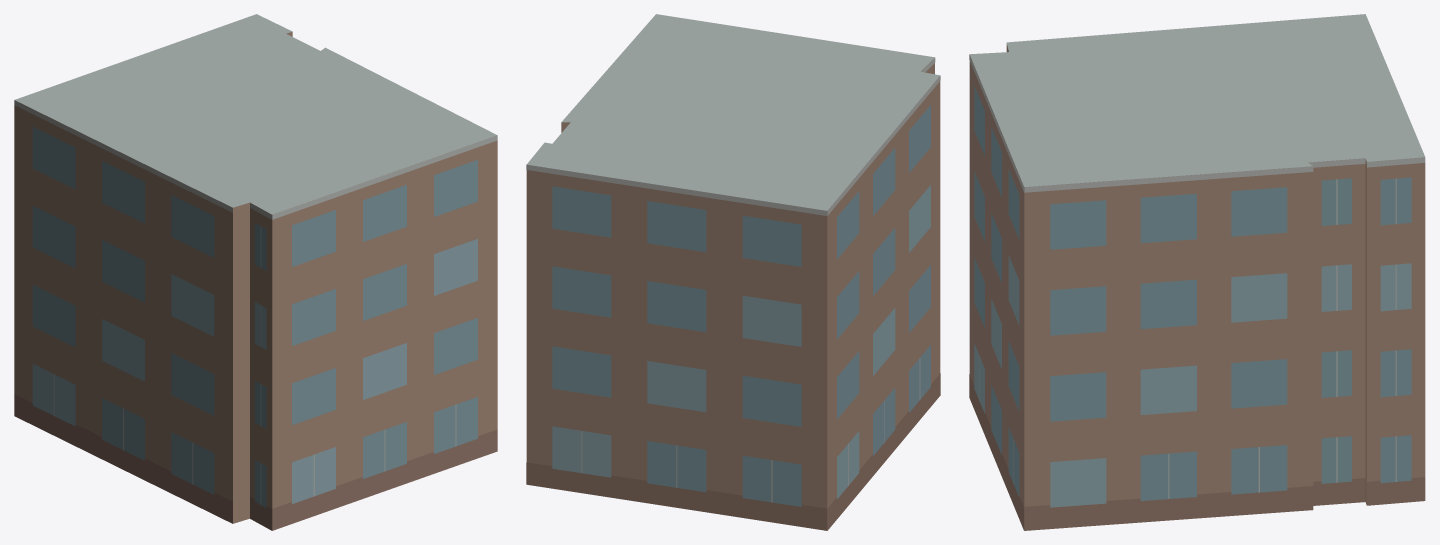
The model's file is survey-upis-32982772.glb.
The picture shows the model from 3 angles, left to right: view 1: azimuth 30°, elevation 25°; view 2: azimuth 150°, elevation 25°; view 3: azimuth 270°, elevation 25°; orthographic projection. The views are drawn at different scales.
Visible parts, largest first — view 1: survey-upis-32982772.tmp; view 2: survey-upis-32982772.tmp; view 3: survey-upis-32982772.tmp.
Boxes of the visible parts, bbox=[...] form: survey-upis-32982772.tmp: bbox=[14, 14, 497, 530]; survey-upis-32982772.tmp: bbox=[526, 14, 940, 530]; survey-upis-32982772.tmp: bbox=[969, 14, 1425, 530].
Bounding box in the file's own units: 16.21 × 15 × 18.04.
